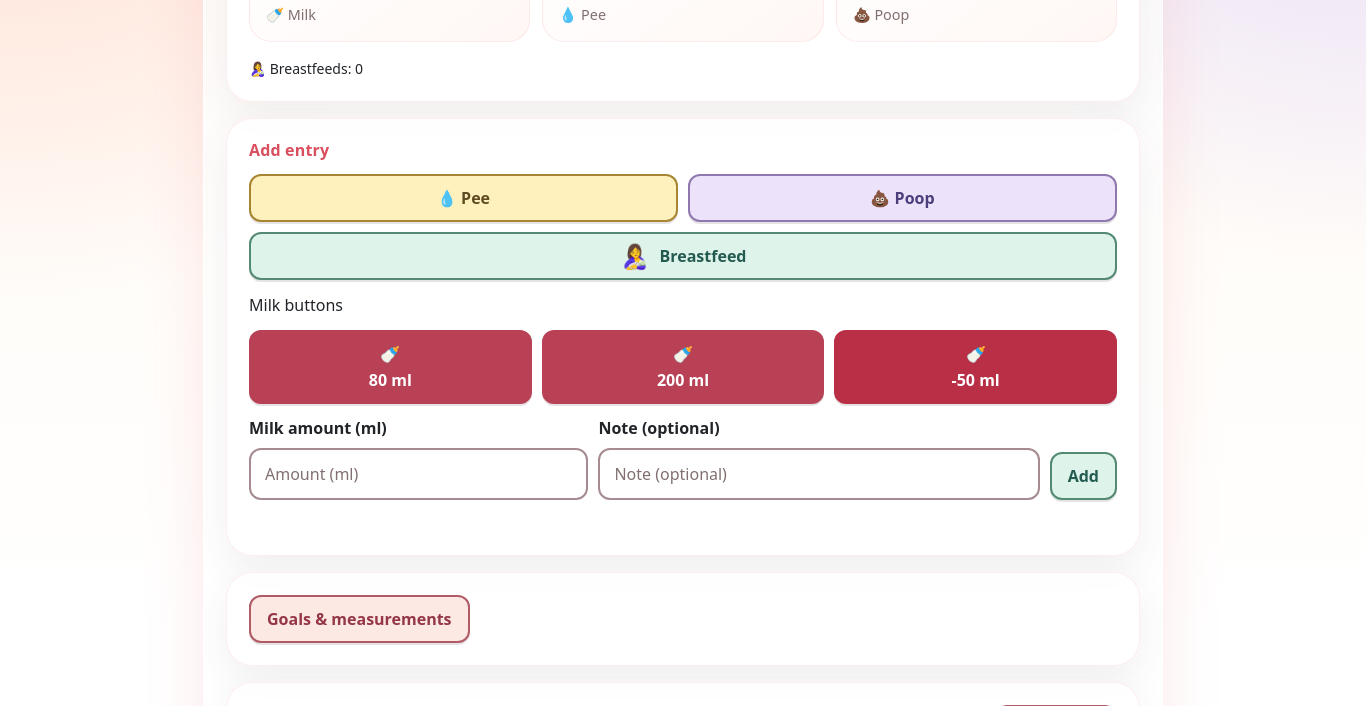
Test: repeated taps only submit one entry while saving
Later steps or results of the test are not shown.
(page scrolled)
Click the button "🍼 80 ml".
click(390, 367)  # box [249,330,532,404]
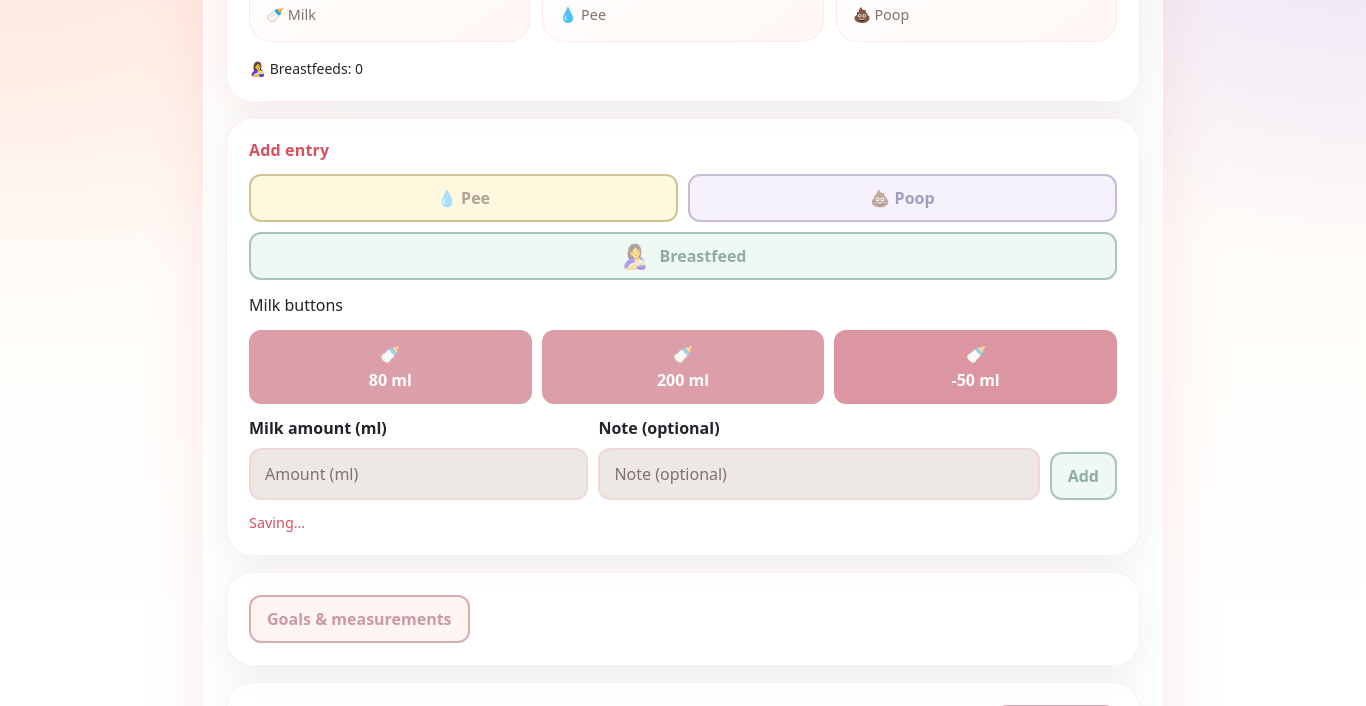
Click the button "🍼 80 ml".
click(390, 367)  # box [249,330,532,404]
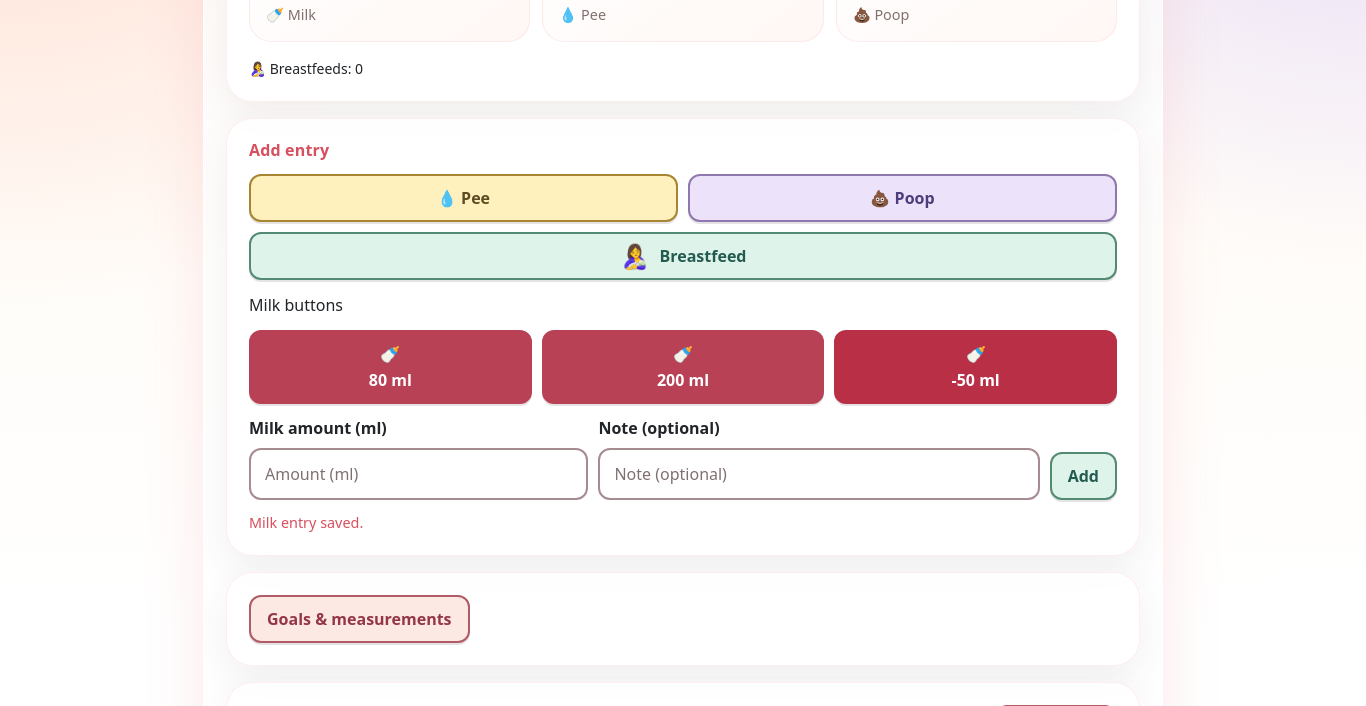
Check: the button "🍼 80 ml" is enabled, box [249,330,532,404]
Check: the text "Milk entry saved." is shown, box [249,513,363,532]
